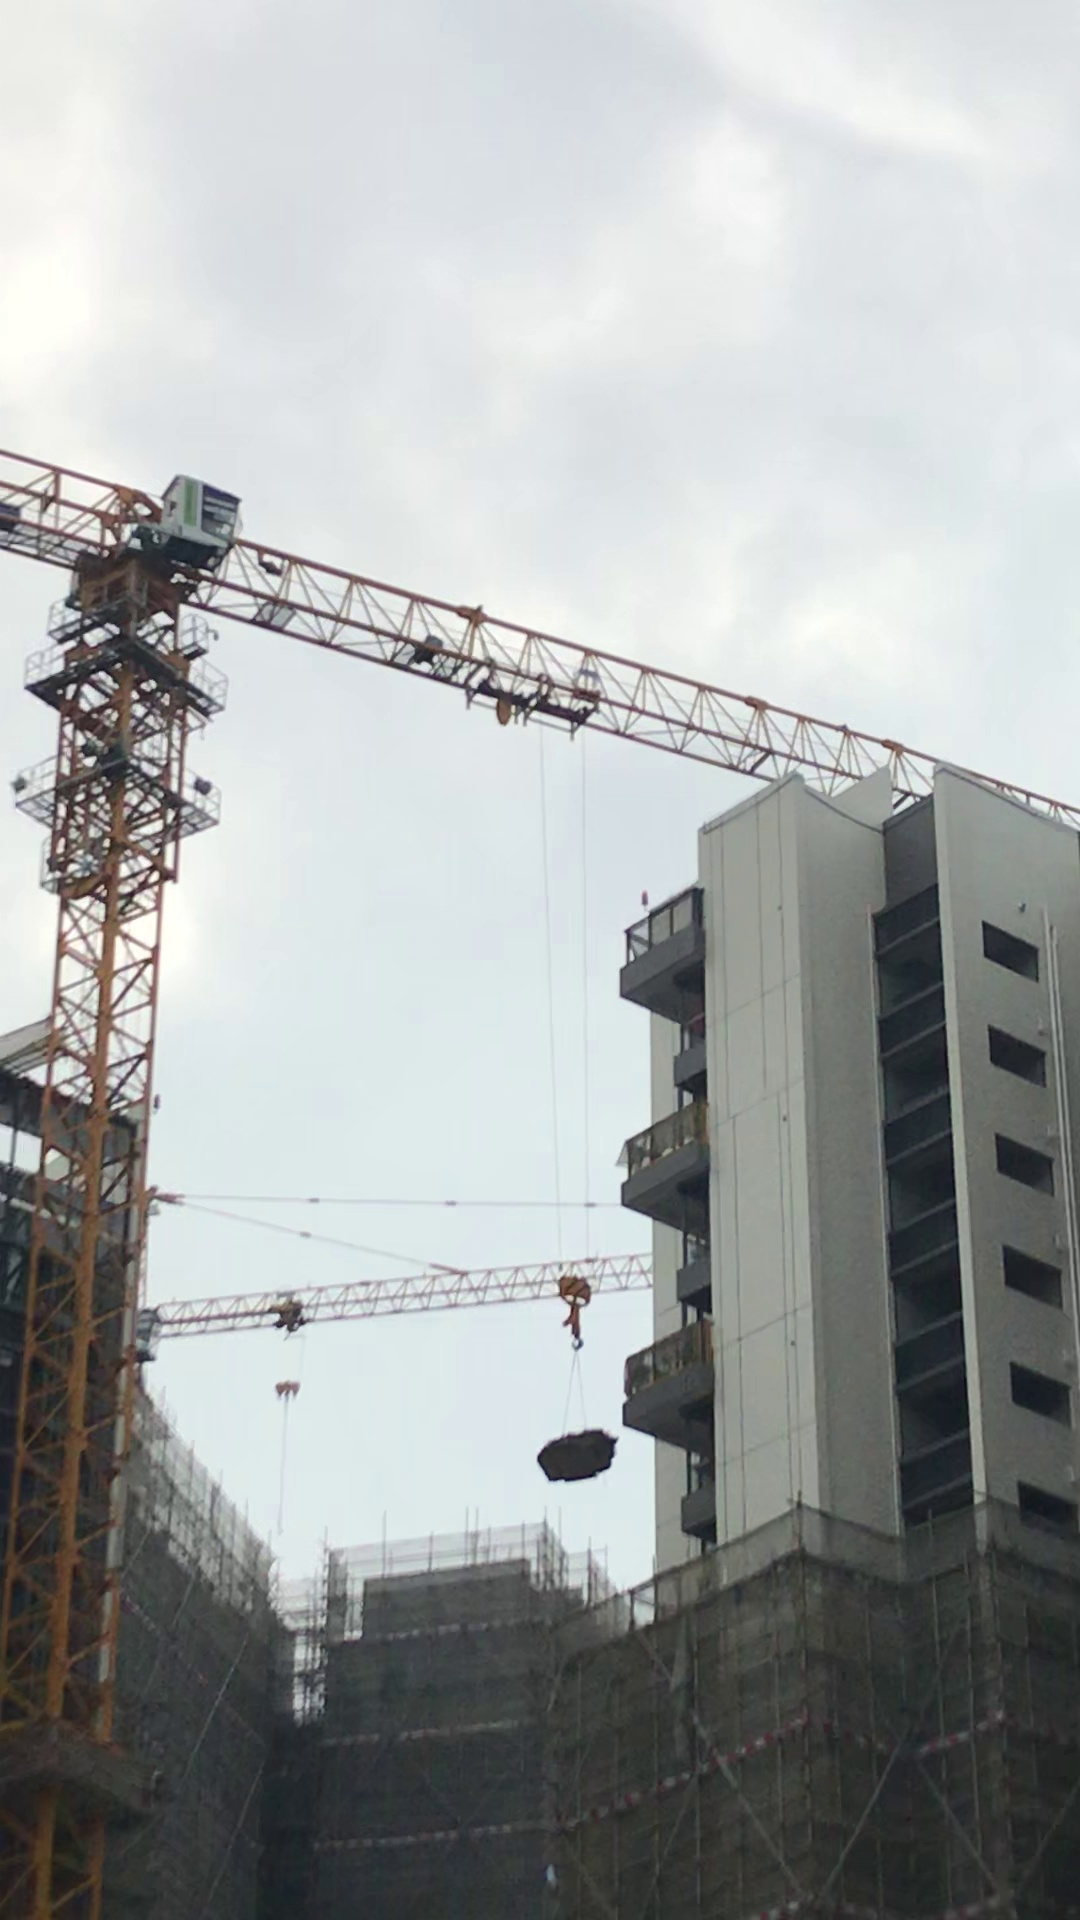board: (509, 1420, 626, 1507)
hook: (541, 1262, 611, 1360), (256, 1365, 315, 1404)
